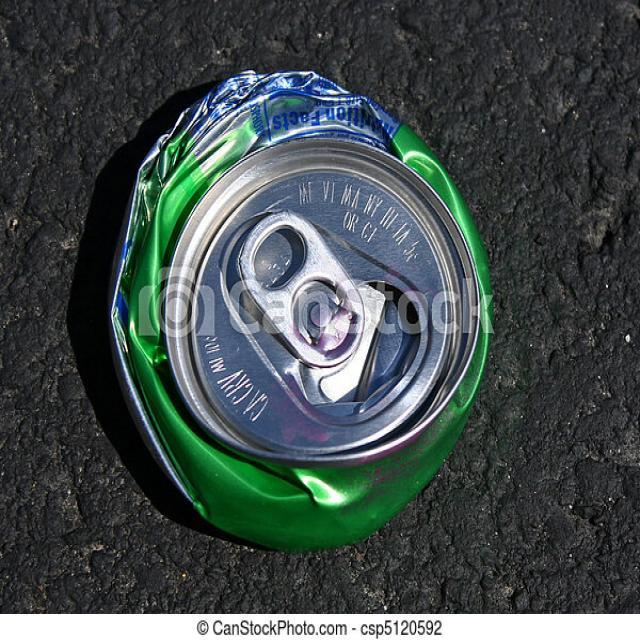can: (88, 46, 506, 587)
